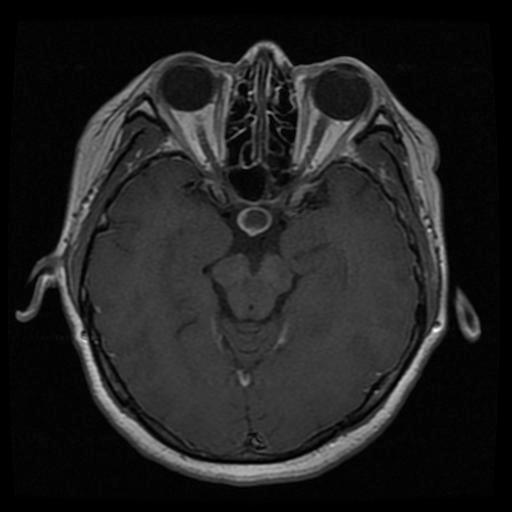Tumour-Pituitary: (234, 202, 275, 243)
